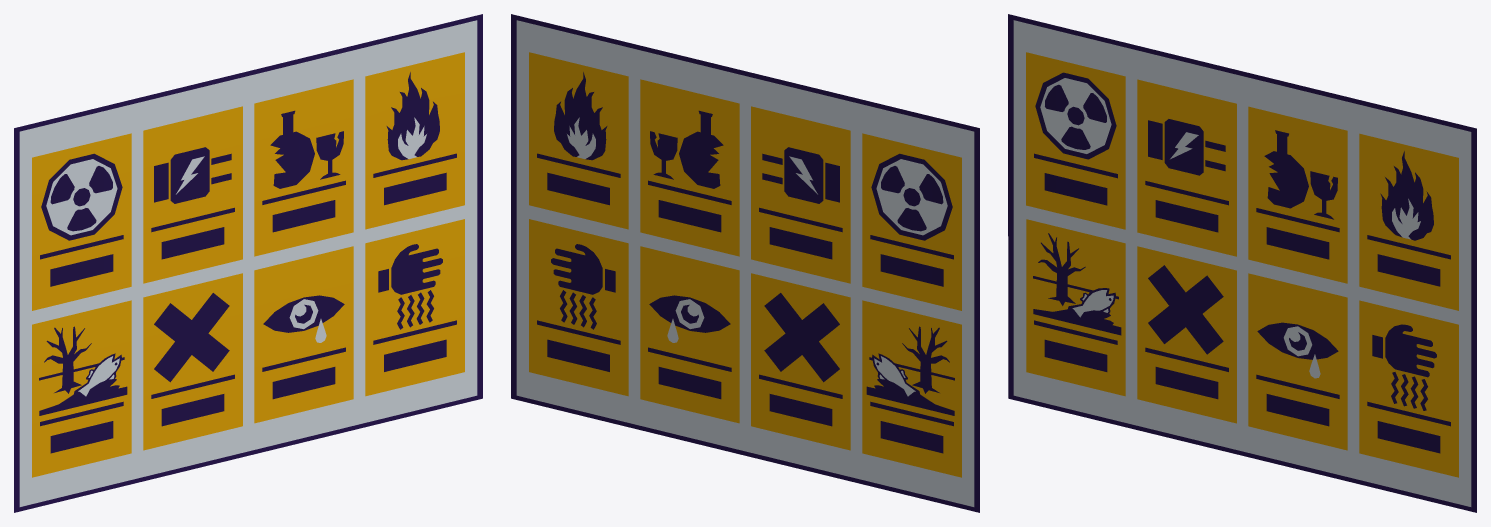
Rendered from CR_sci_Poster_001.FBX.
3 views of the same model, side by side, from view 1: azimuth 30°, elevation 25°; view 2: azimuth 150°, elevation 25°; view 3: azimuth 330°, elevation 25° (orthographic).
Parts seen in each view (by area): view 1: CR_sci_Poster_001; view 2: CR_sci_Poster_001; view 3: CR_sci_Poster_001.
Boxes of the visible parts, x1,y1,x2,y2 form: CR_sci_Poster_001: [14, 14, 482, 512]; CR_sci_Poster_001: [511, 14, 979, 512]; CR_sci_Poster_001: [1008, 14, 1476, 512].
Size of the model in its own units: 128 by 100 by 1.63e-05.
